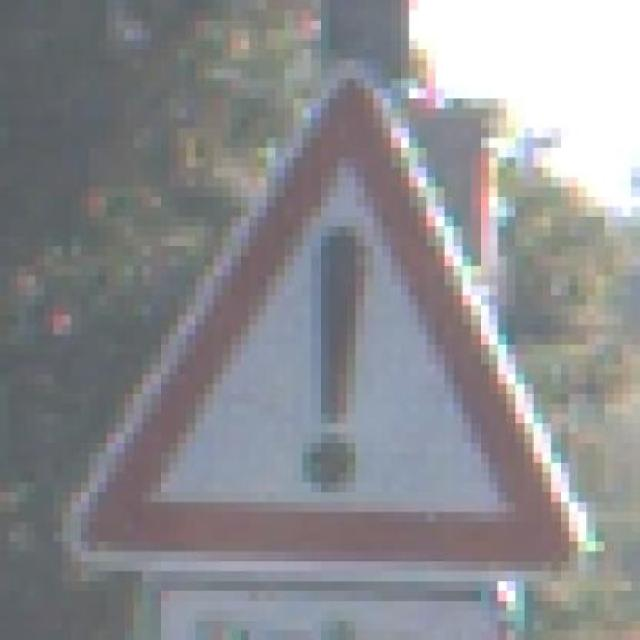Attention Please-: (53, 39, 587, 610)
